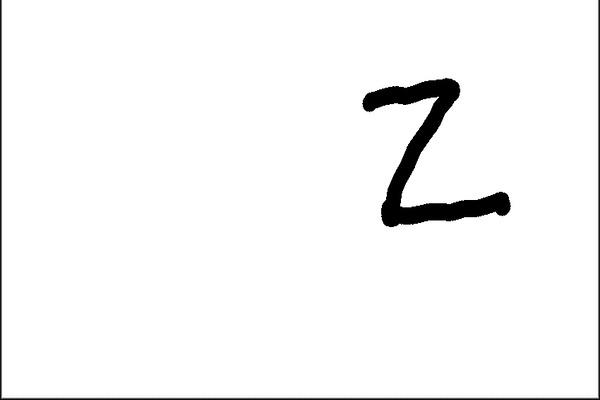Z: (344, 72, 519, 233)
